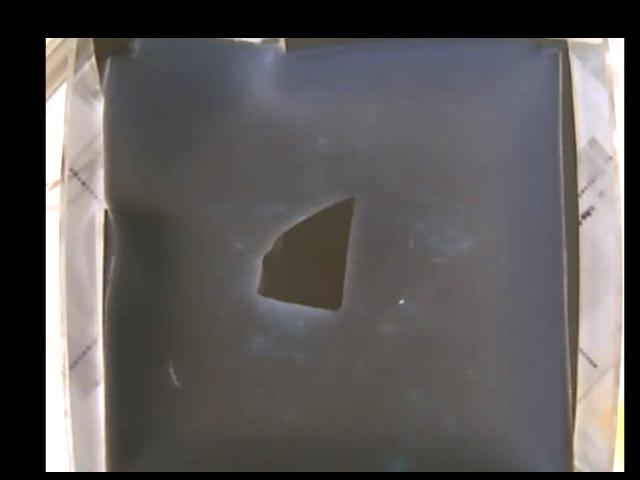China: (256, 196, 356, 311)
